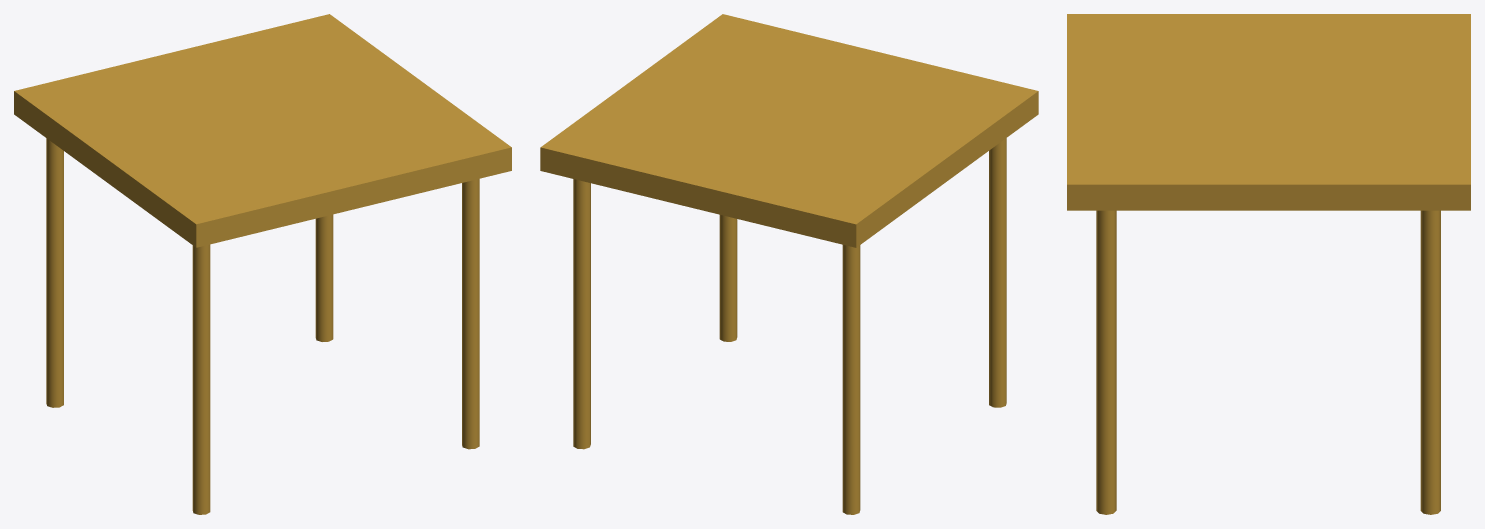
The picture shows the model from 3 angles, left to right: view 1: azimuth 30°, elevation 25°; view 2: azimuth 150°, elevation 25°; view 3: azimuth 270°, elevation 25°; orthographic projection. The views are drawn at different scales.
Parts seen in each view (by area): view 1: square_table; view 2: square_table; view 3: square_table.
Part boxes in pixels (bbox=[...]): square_table: bbox=[14, 14, 511, 514]; square_table: bbox=[540, 14, 1038, 514]; square_table: bbox=[1067, 14, 1470, 514].
Size of the model in its own units: 0.8 by 0.8 by 0.74.
